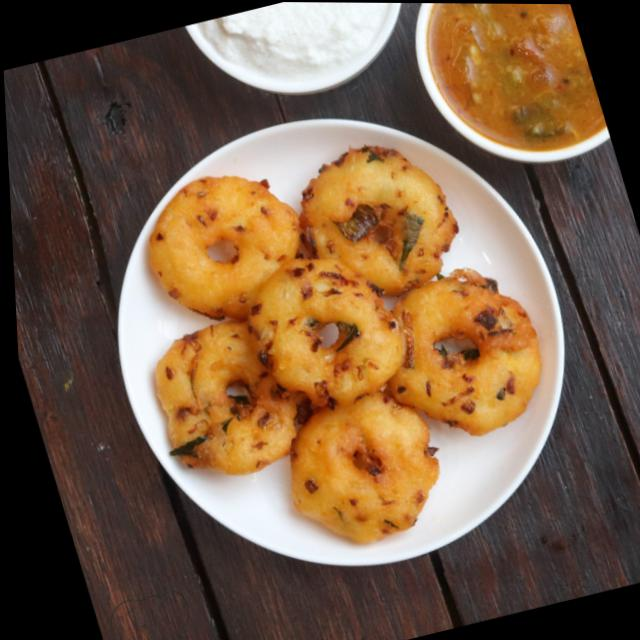SAMBAR: (426, 3, 606, 152)
VADA: (146, 143, 543, 547)
WHITE CHUTNEY: (192, 2, 392, 88)
